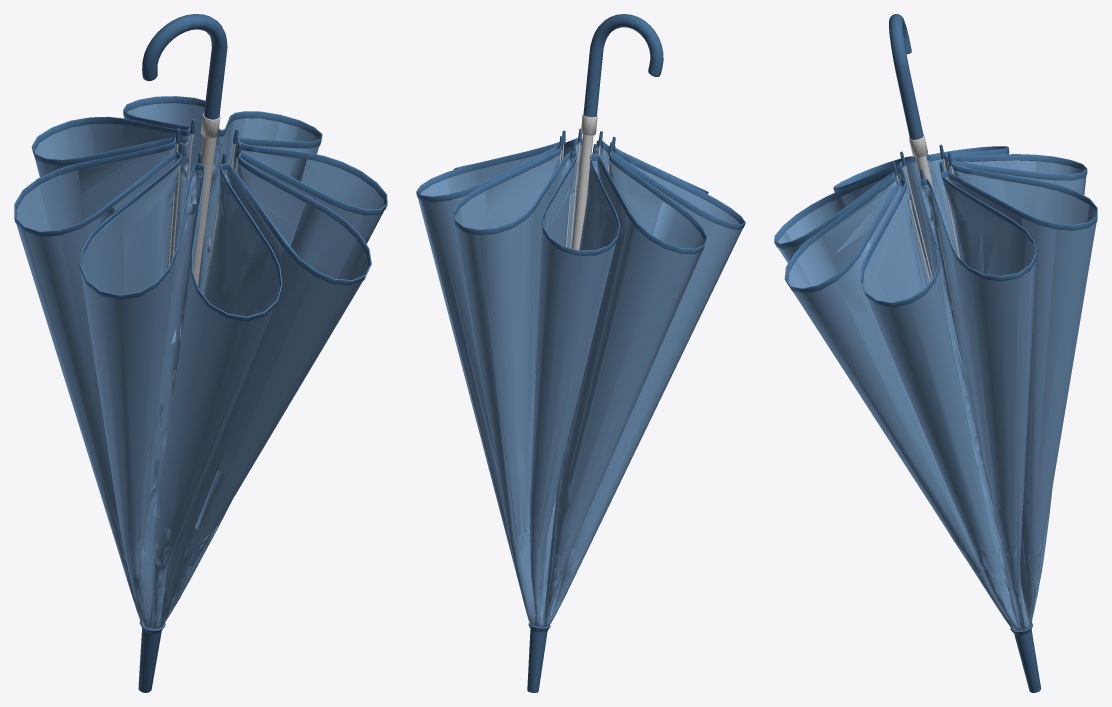
The model's file is paragua.glb.
3 views of the same model, side by side, from view 1: azimuth 30°, elevation 25°; view 2: azimuth 150°, elevation 25°; view 3: azimuth 270°, elevation 25° (orthographic). The views are drawn at different scales.
Visible parts, largest first — view 1: paragua; view 2: paragua; view 3: paragua.
Part boxes in pixels (<box>): paragua: <box>14,14,387,692</box>; paragua: <box>416,14,745,692</box>; paragua: <box>774,14,1097,692</box>.
Size of the model in its own units: 35.8 by 78.63 by 35.02.
